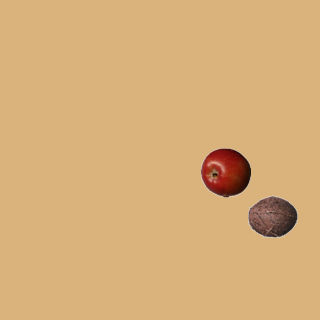Apple Braeburn: (200, 147, 250, 197)
Cocos: (247, 191, 297, 241)
